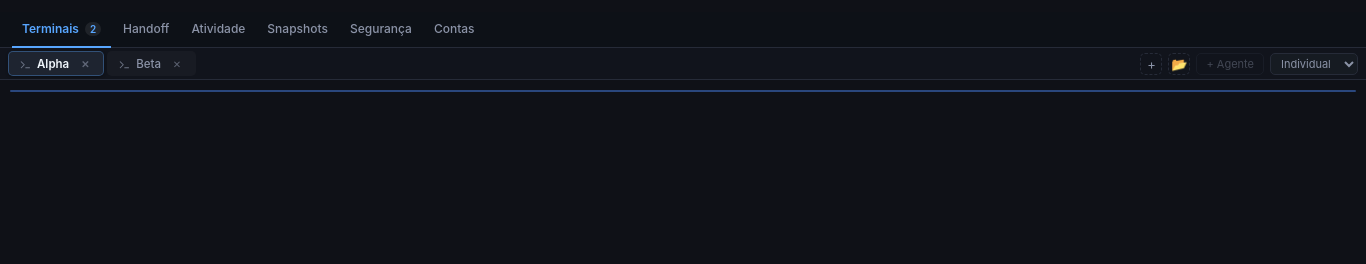
Test case: workspace layouts › oferece handoff multiagente no menu da aba do terminal
This screenshot has width=1366, height=264.
Step 1. Right-click the tab "Alpha ✕" → (56, 64), box [8,51,104,76]
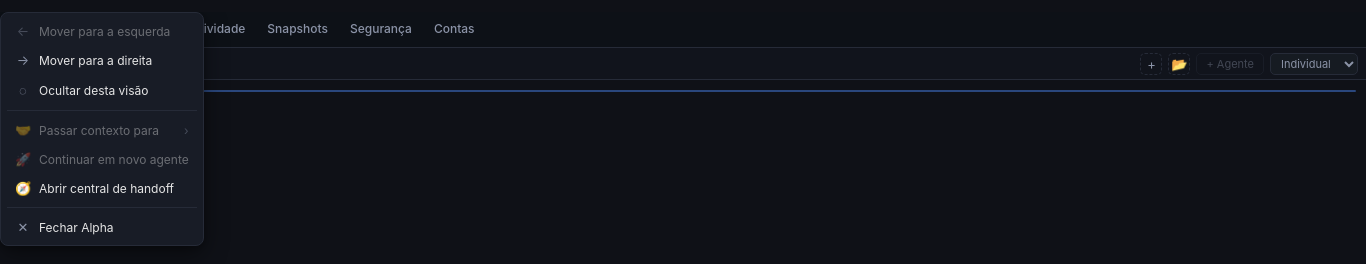
Check: the text "Passar contexto para" is shown, box [39,122,170,138]
Check: the text "Continuar em novo agente" is shown, box [39,152,189,166]
Check: the text "Abrir central de handoff" is shown, box [39,180,189,196]
